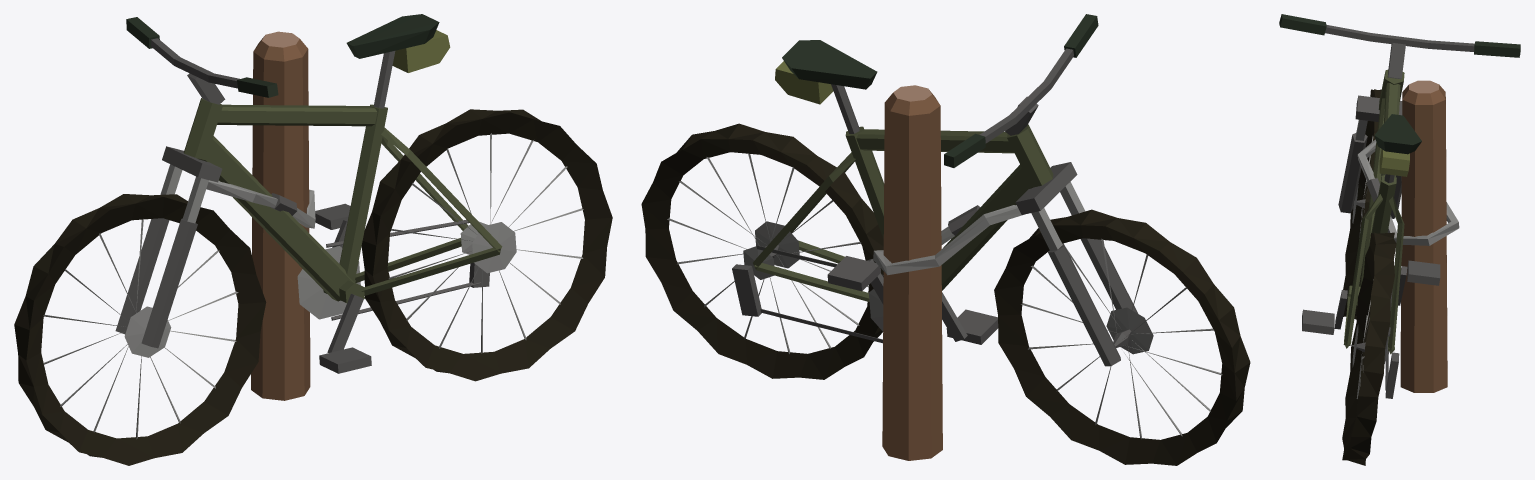
File: trail-bike-on-a-652470.glb
3 views of the same model, side by side, from view 1: azimuth 30°, elevation 25°; view 2: azimuth 150°, elevation 25°; view 3: azimuth 270°, elevation 25° (orthographic). The views are drawn at different scales.
Visible parts, largest first — view 1: bike-frame, wheel-rear-mesh, wheel-front-mesh, post, fork-and-bar, cranks-mesh, lock-mesh; view 2: wheel-front-mesh, post, wheel-rear-mesh, bike-frame, fork-and-bar, cranks-mesh, lock-mesh; view 3: post, wheel-rear-mesh, bike-frame, fork-and-bar, cranks-mesh, wheel-front-mesh, lock-mesh.
Boxes of the visible parts, x1,y1,x2,y2 form: bike-frame: (183,14,502,320); wheel-rear-mesh: (361,109,612,381); wheel-front-mesh: (14,194,266,465); post: (251,31,310,400); fork-and-bar: (115,17,278,348); cranks-mesh: (297,203,371,373); lock-mesh: (206,180,315,228); wheel-front-mesh: (994,209,1250,465); post: (882,85,942,460); wheel-rear-mesh: (641,123,883,379); bike-frame: (732,40,1053,343); fork-and-bar: (944,14,1138,366); cranks-mesh: (827,256,998,344); lock-mesh: (873,205,1023,275); post: (1400,80,1447,392); wheel-rear-mesh: (1342,232,1396,465); bike-frame: (1343,69,1421,398); fork-and-bar: (1279,14,1520,218); cranks-mesh: (1302,260,1440,334); wheel-front-mesh: (1343,89,1381,319); lock-mesh: (1357,139,1459,245).
Bounding box in the file's own units: 1.76 × 1.11 × 0.7398.
